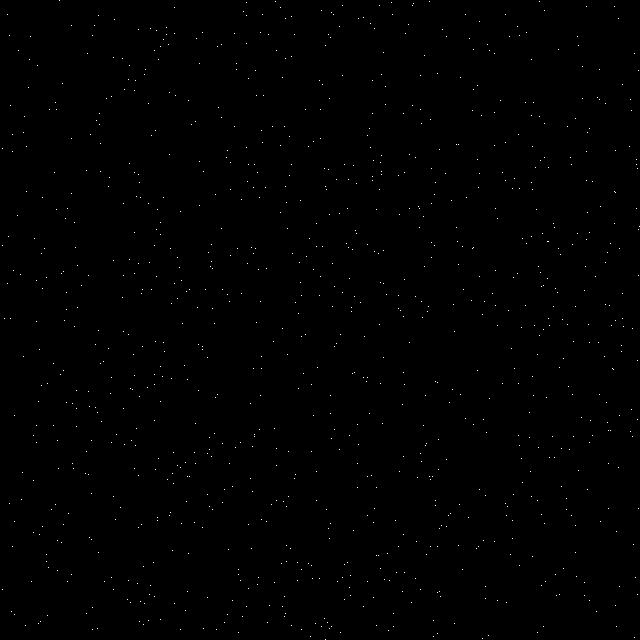Ograniczenie predkosci do 120: (103, 108, 582, 583)
